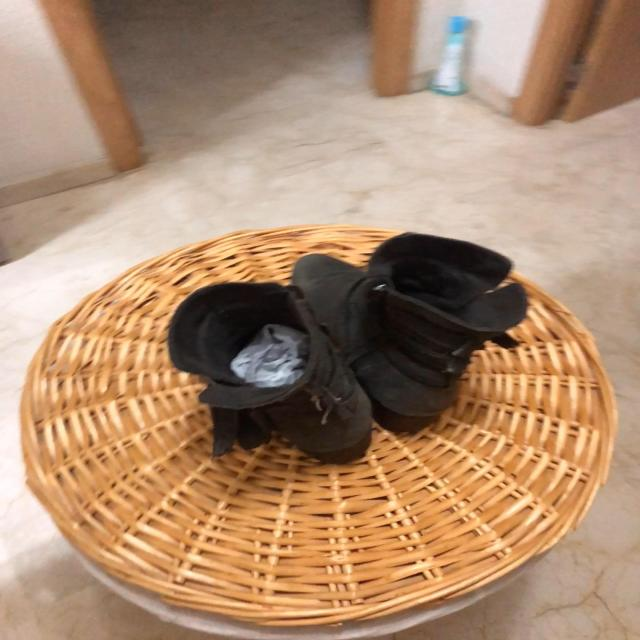shoe: (291, 256, 528, 432), (172, 283, 374, 465)
